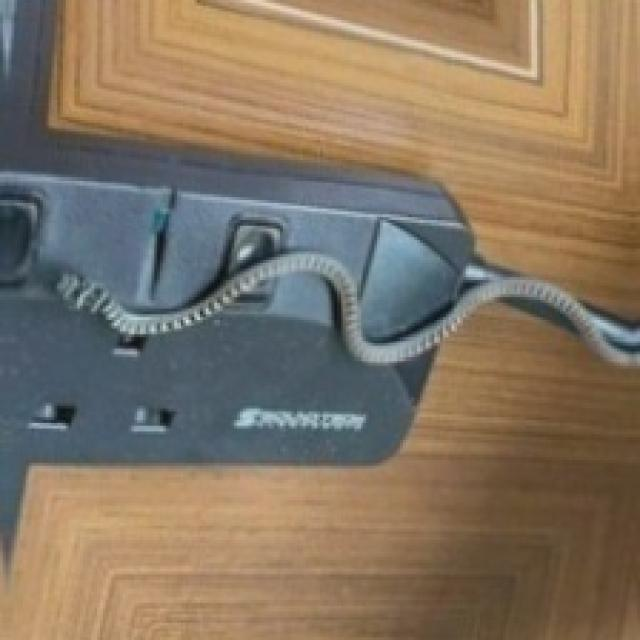paradise tree snake: (54, 251, 637, 363)
